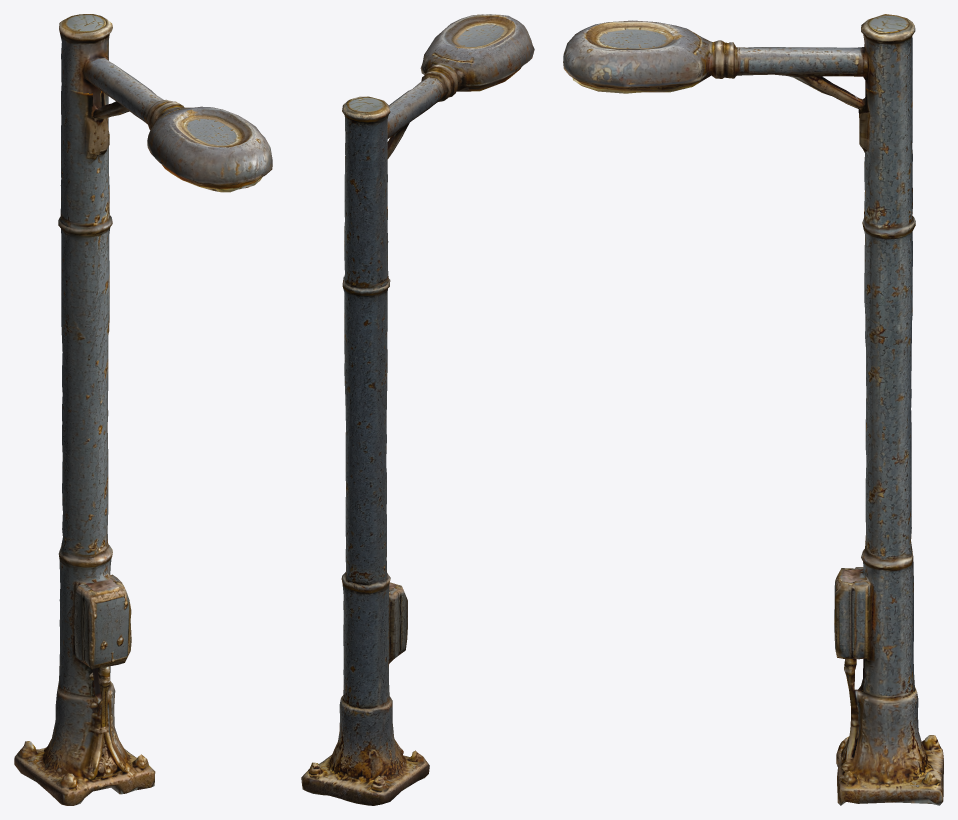
Rendered from prop_street_lamp.glb.
3 renders of one model, left to right at view 1: azimuth 30°, elevation 25°; view 2: azimuth 150°, elevation 25°; view 3: azimuth 270°, elevation 25°, orthographic. The views are drawn at different scales.
Parts seen in each view (by area): view 1: texture_mapping; view 2: texture_mapping; view 3: texture_mapping.
Boxes of the visible parts, x1,y1,x2,y2 form: texture_mapping: [14, 14, 272, 805]; texture_mapping: [301, 14, 534, 805]; texture_mapping: [563, 14, 943, 805].
Bounding box in the file's own units: 0.1297 × 0.9964 × 0.4519.
Materials: 1 (1 with a texture image).
